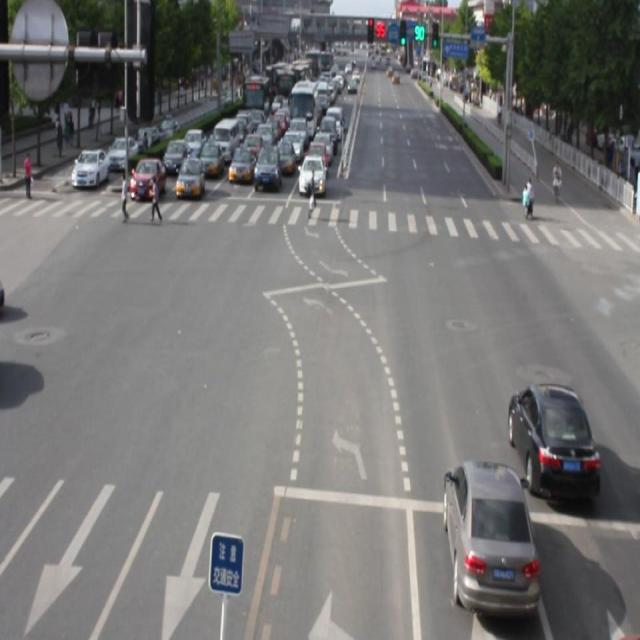car: (441, 459, 538, 616), (508, 383, 599, 495)
